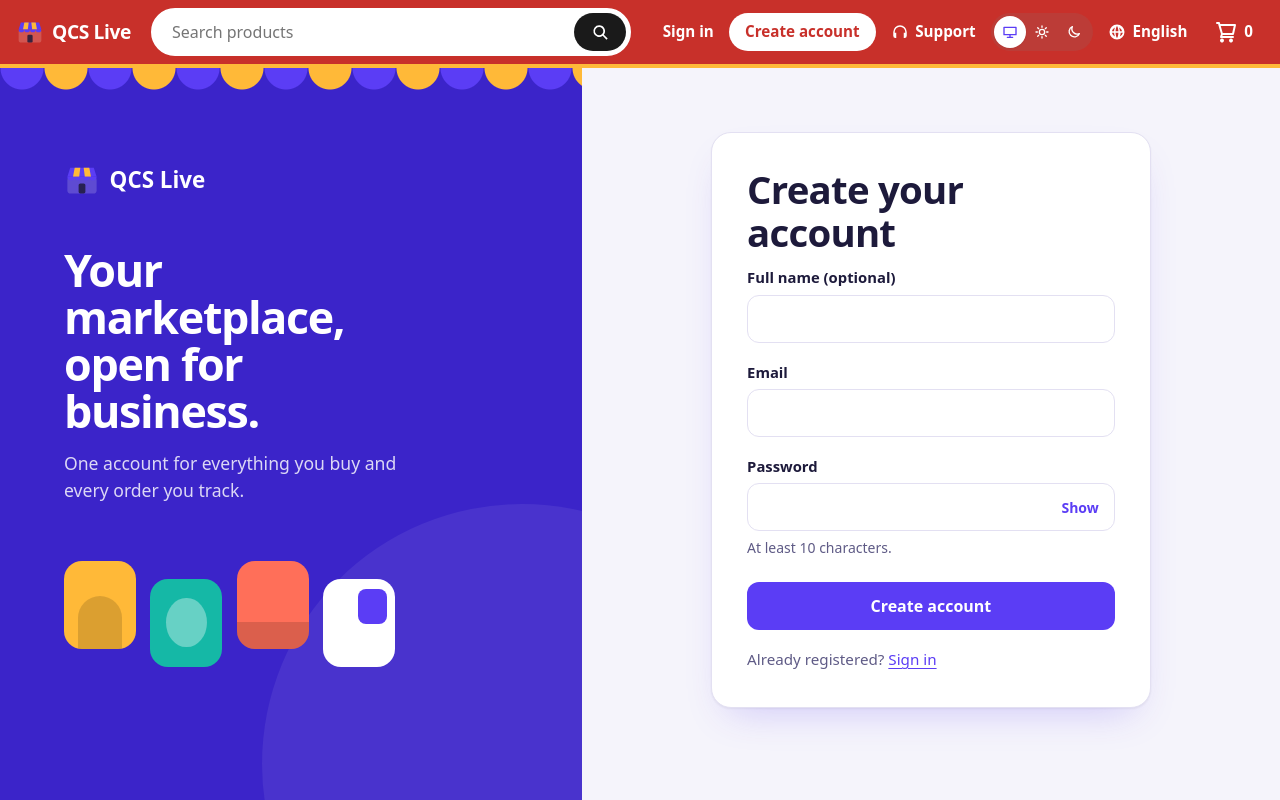
it: registration › shows a clear error when the email is already registered
Type "jane@example.com" into the field labelled "Email" at (931, 413), box [747,389,1115,437]
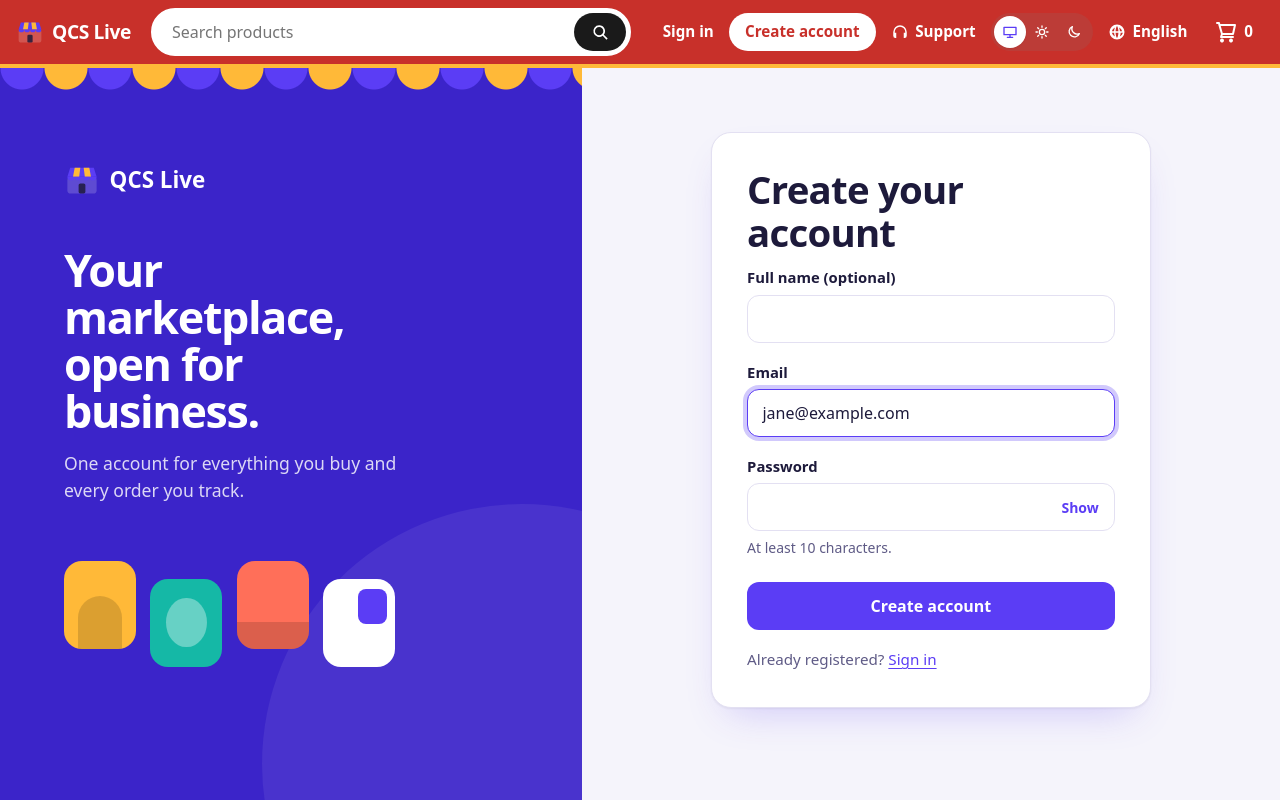
Type "a-reasonably-long-passphrase" into the password field labelled "Password" at (931, 507), box [747,483,1115,531]
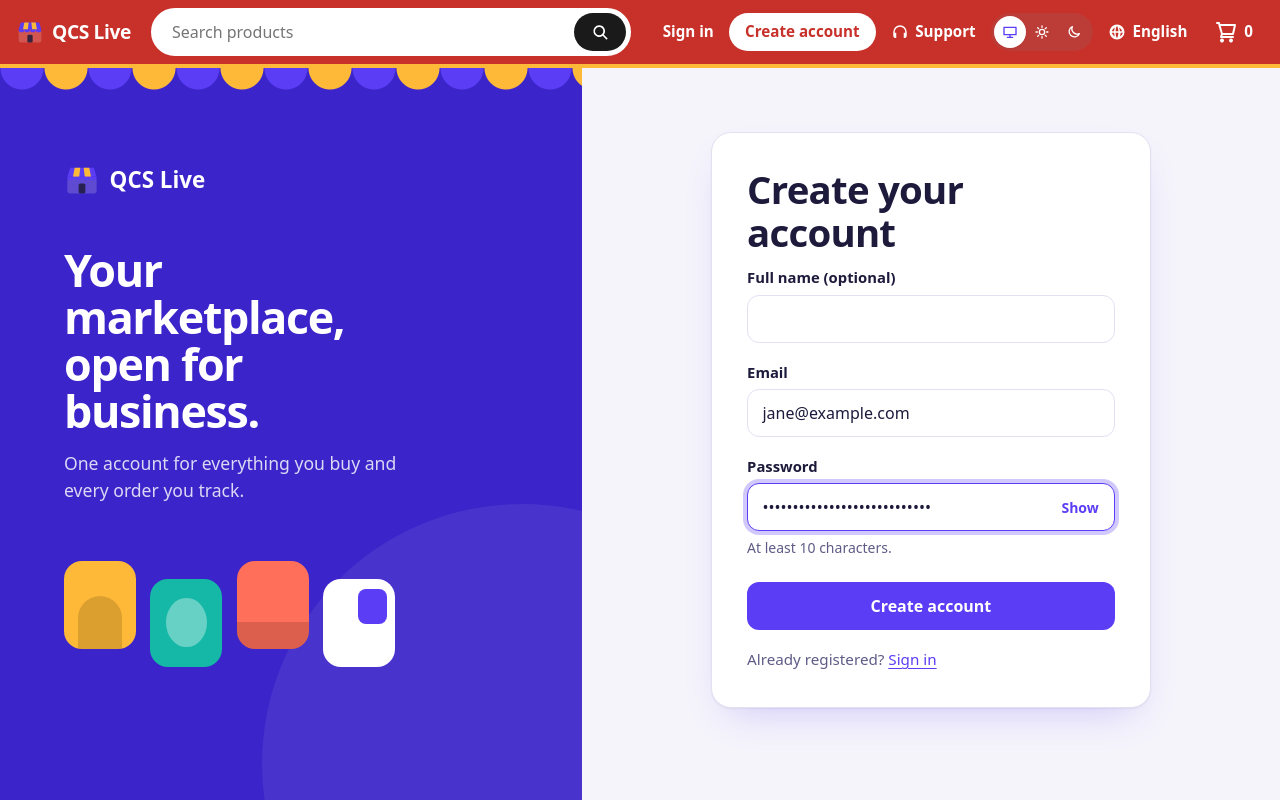
Click the button "Create account" at (931, 606), box [747,582,1115,630]
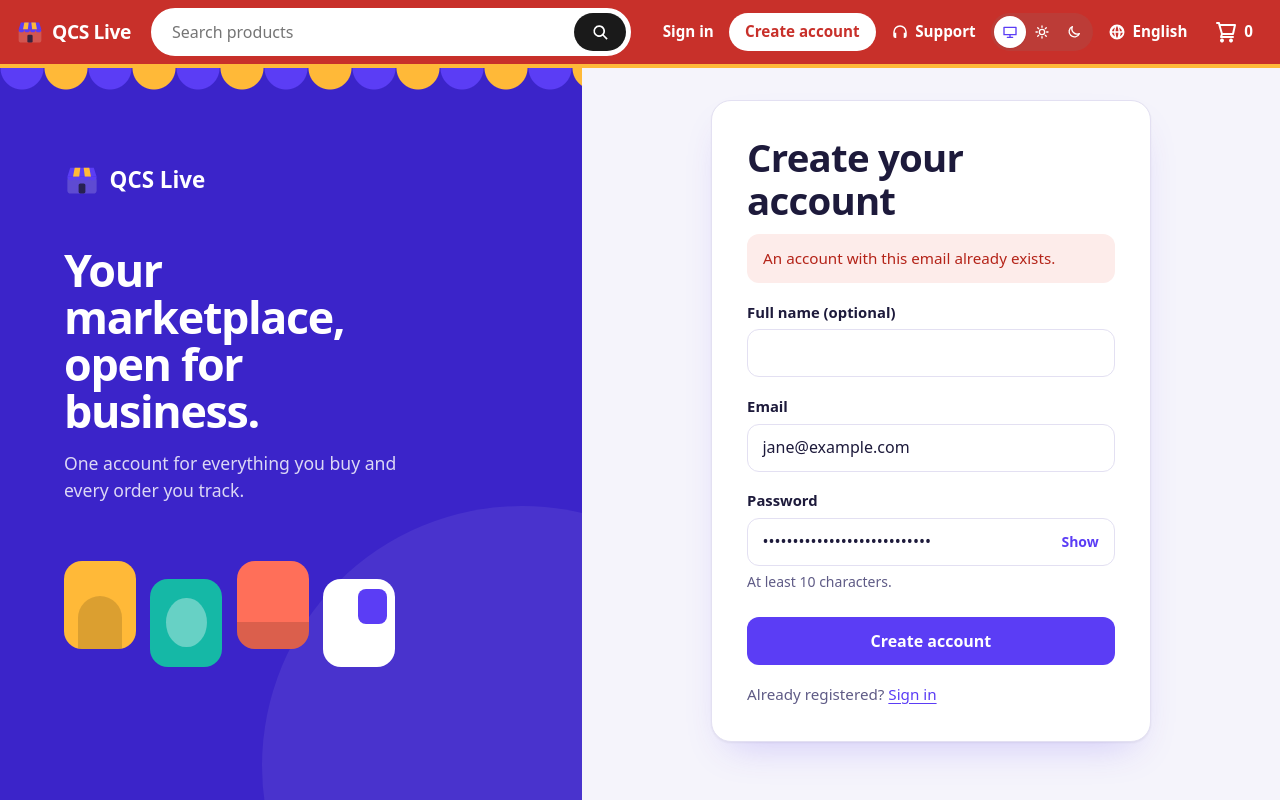
Check: the message shows "already exists", box [763,248,1055,268]
